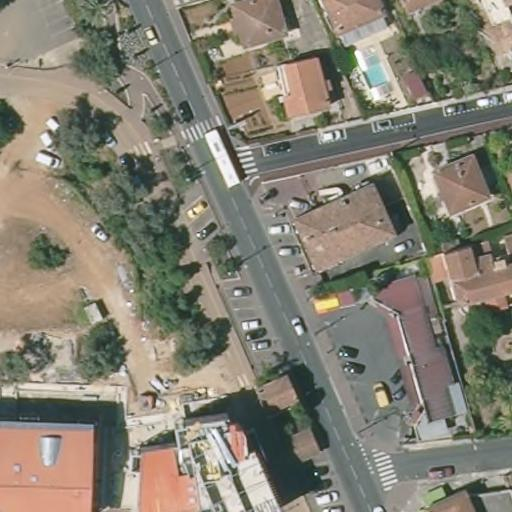pool: (354, 42, 389, 88)
